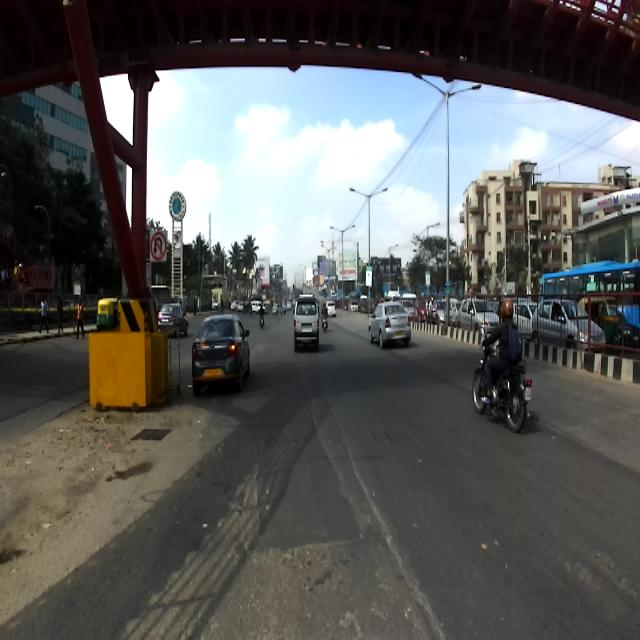barrier ahead at: (81, 282, 175, 422)
car ahead at: (188, 310, 257, 392), (366, 300, 414, 352), (290, 285, 322, 359)
motorcycle ahead at: (471, 294, 539, 440)
